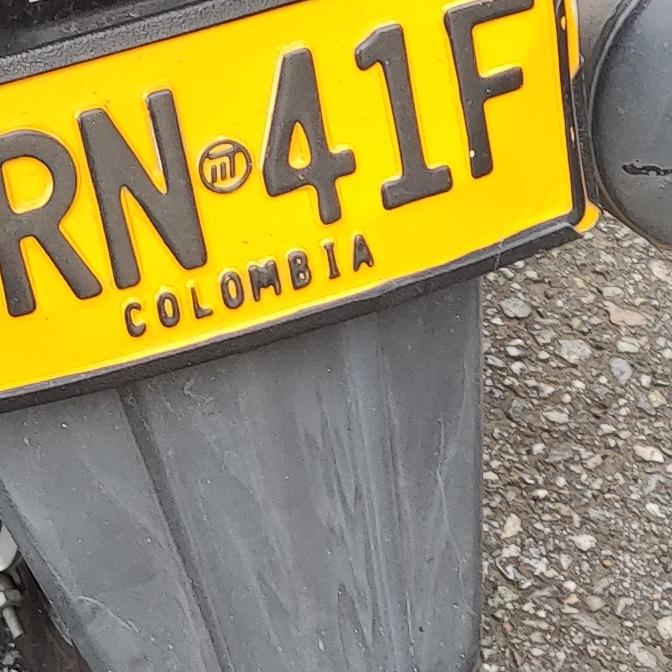plates: (0, 0, 598, 394)
